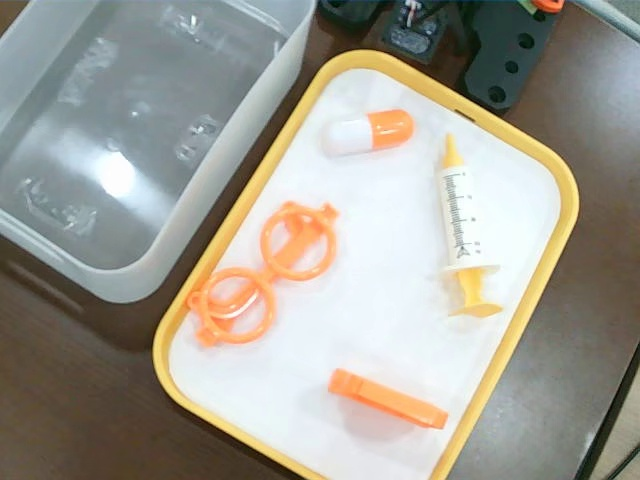pill: (321, 109, 415, 157)
syringe: (433, 130, 508, 321)
